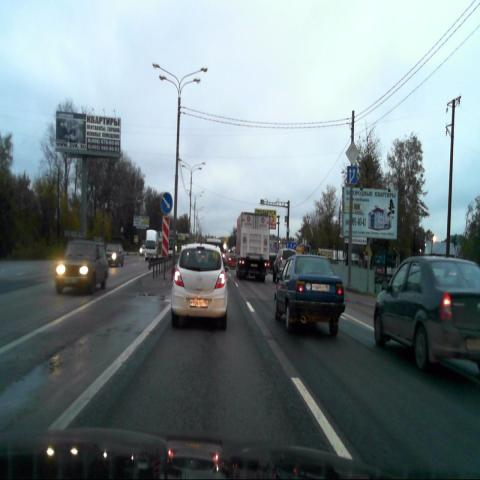4_2_1: (161, 192, 172, 213)
